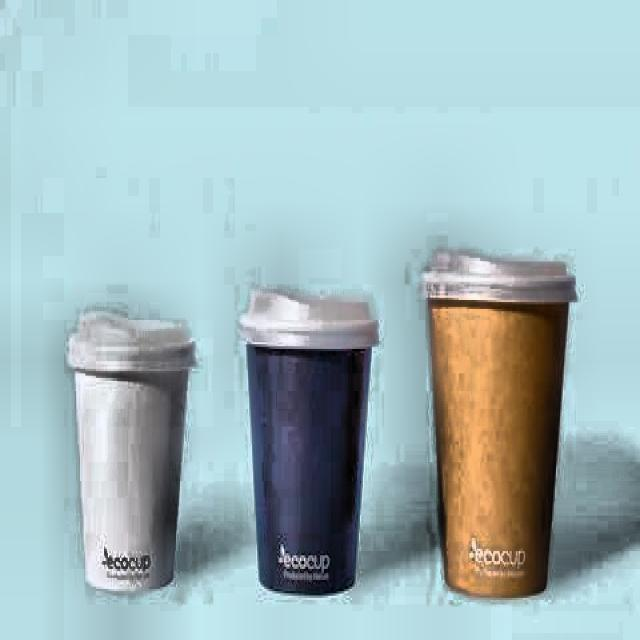Cup: (416, 252, 580, 599), (237, 294, 383, 604), (66, 308, 190, 593)
